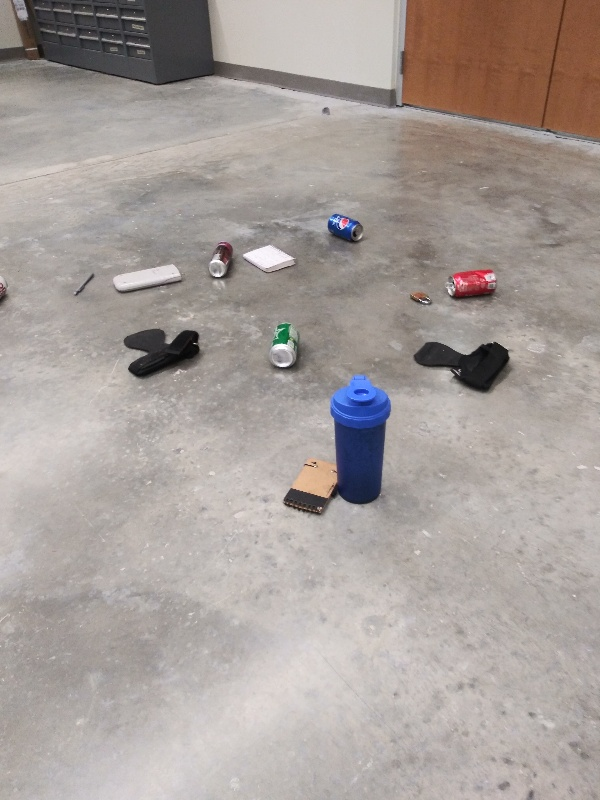can: (442, 267, 505, 305), (267, 319, 302, 370), (205, 239, 240, 285), (324, 210, 366, 244)
